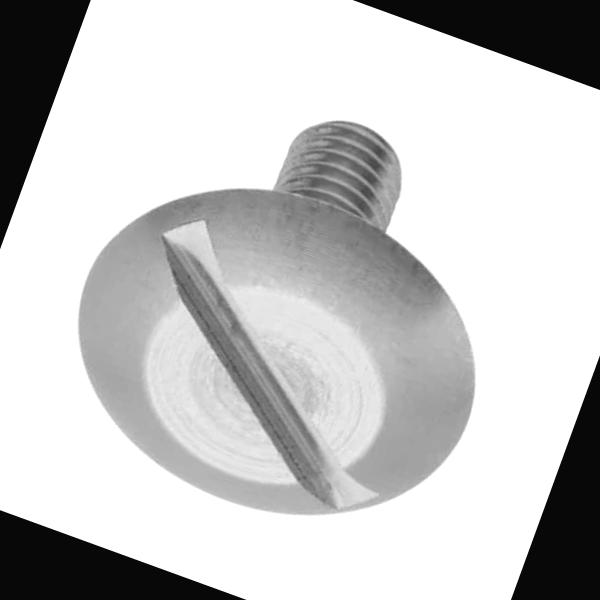screw: (29, 136, 524, 574)
